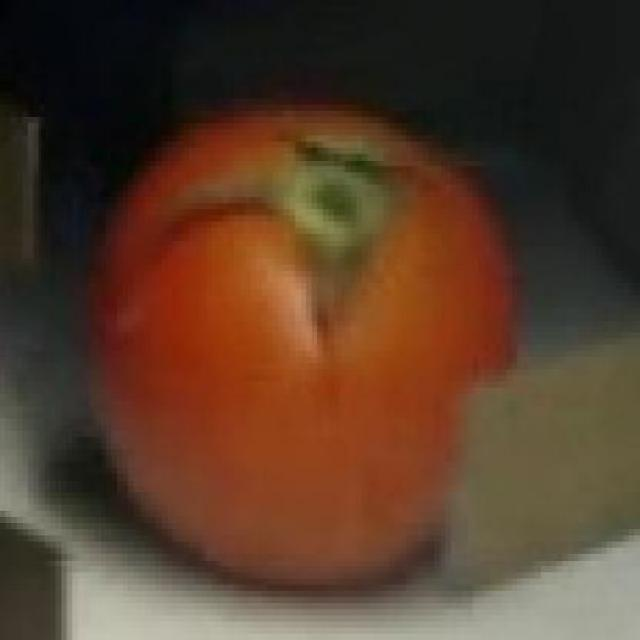tomato: (92, 113, 513, 579)
